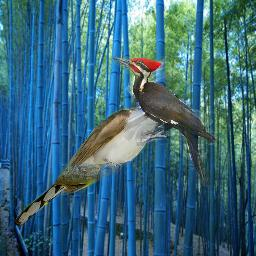Cuckoo: (12, 98, 192, 227)
Woodpecker: (111, 56, 218, 187)
